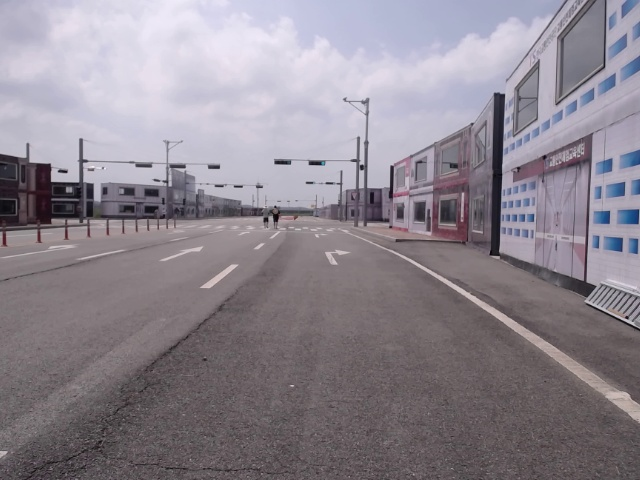straight_green_4: (311, 159, 326, 167)
